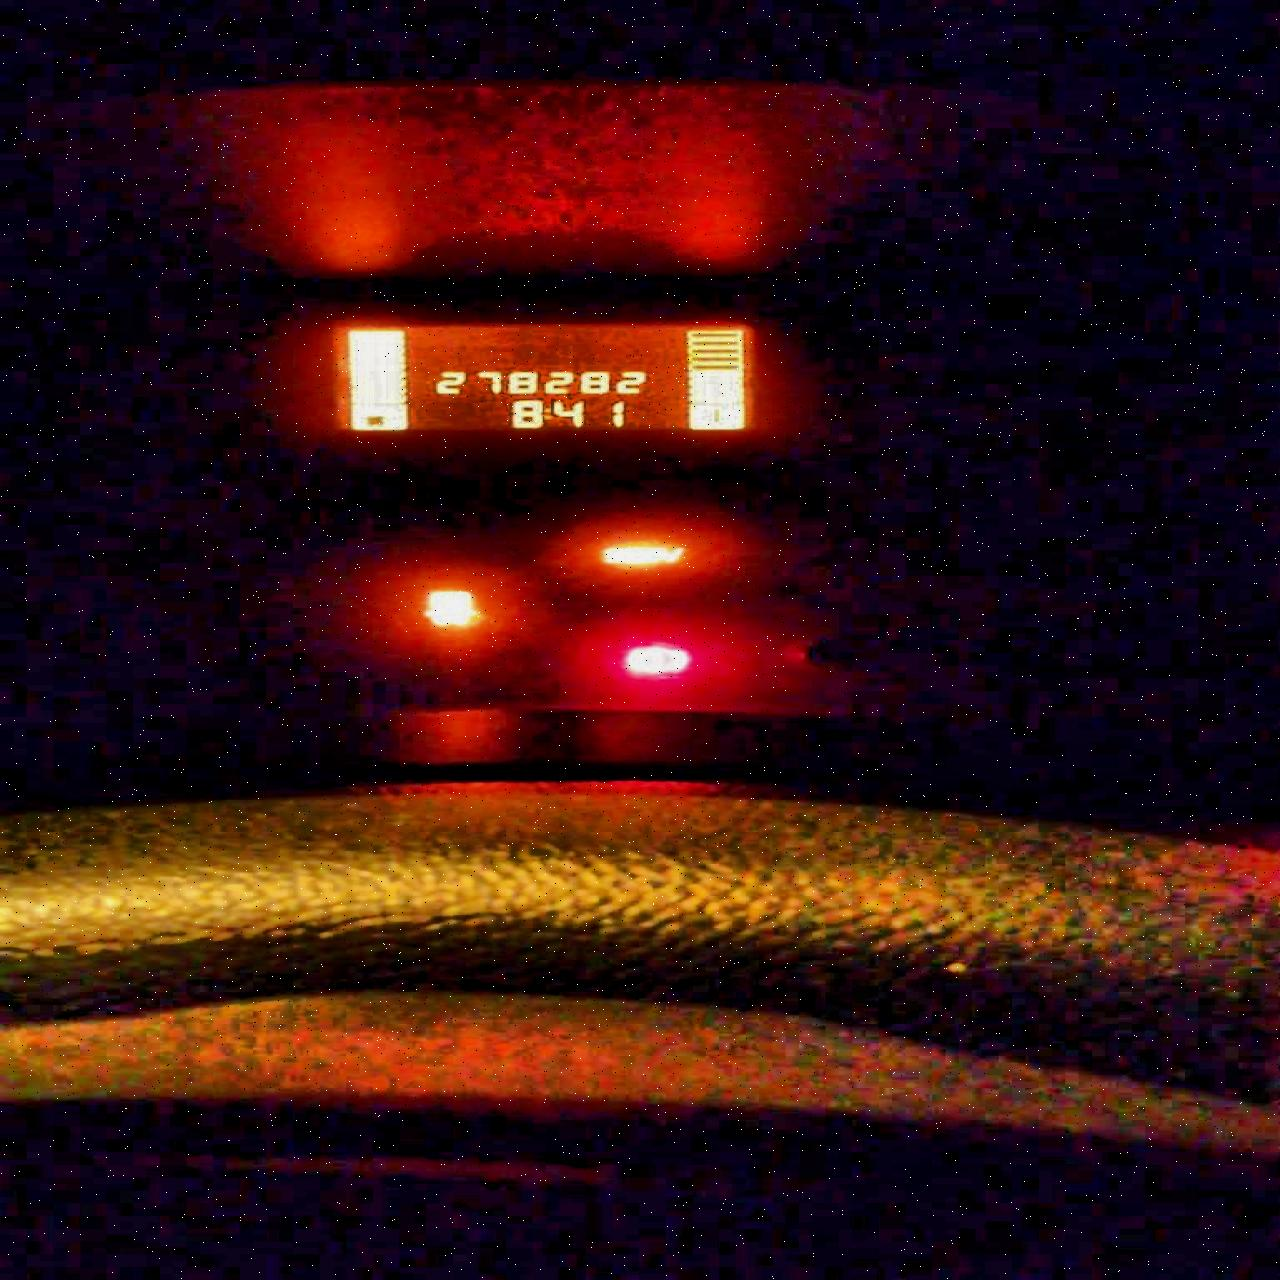1: (607, 399, 626, 430)
2: (431, 370, 466, 395), (614, 370, 648, 394), (541, 370, 574, 394)
4: (551, 399, 586, 430)
7: (472, 370, 502, 394)
8: (508, 399, 544, 430), (506, 370, 538, 396), (579, 369, 609, 394)
X: (541, 406, 553, 421)
odometer: (308, 314, 774, 439)
